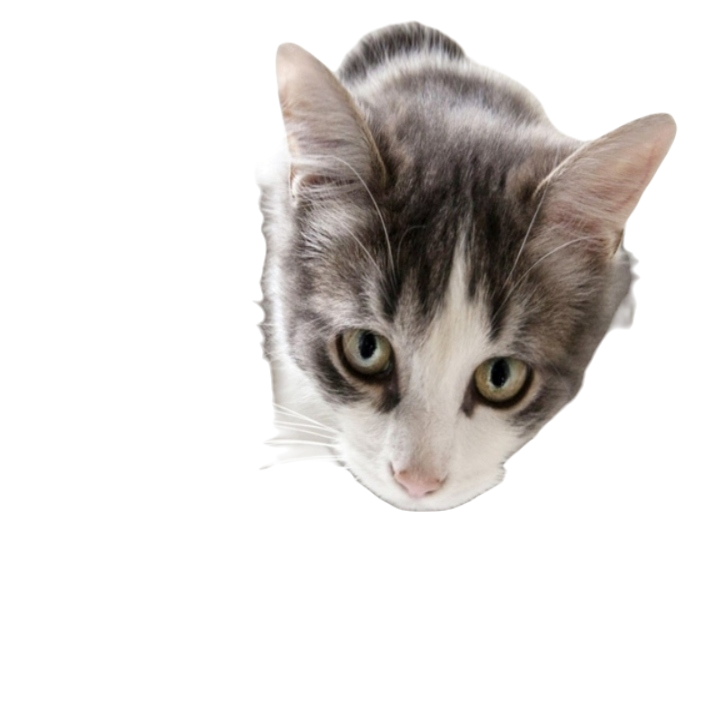Cat: (209, 18, 694, 516)
